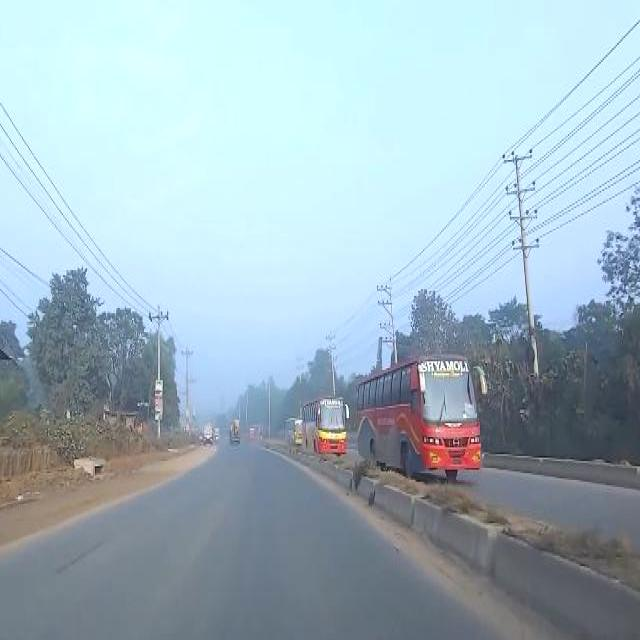BUS: (353, 358, 484, 482), (310, 400, 350, 456)
